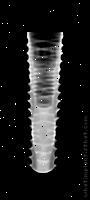Cowellmedi: (25, 31, 65, 175)
